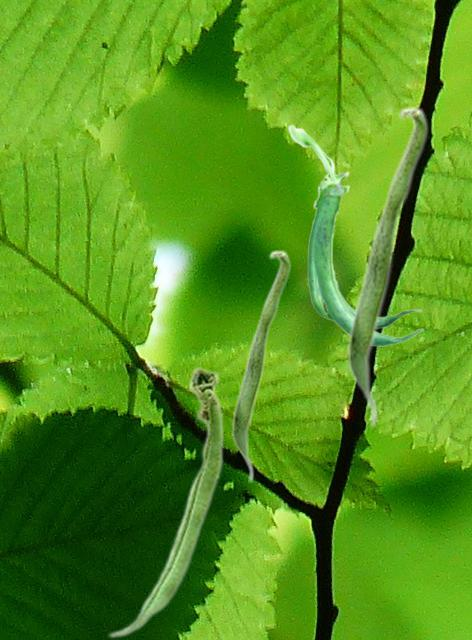french_bean: (107, 365, 223, 638), (287, 124, 423, 346), (346, 105, 428, 429), (231, 249, 290, 483)
